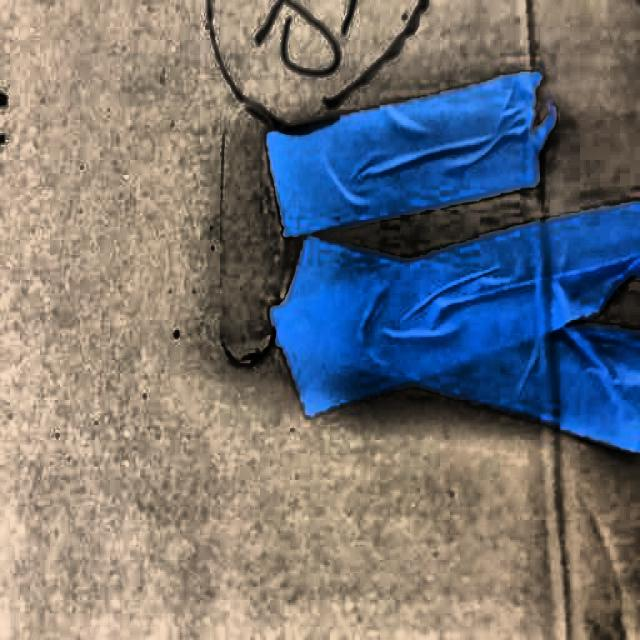cardboard: (6, 8, 638, 638)
